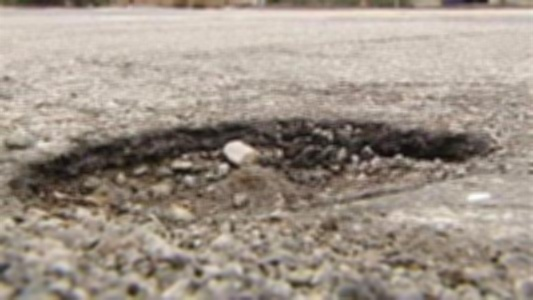pothole: (6, 117, 495, 245)
